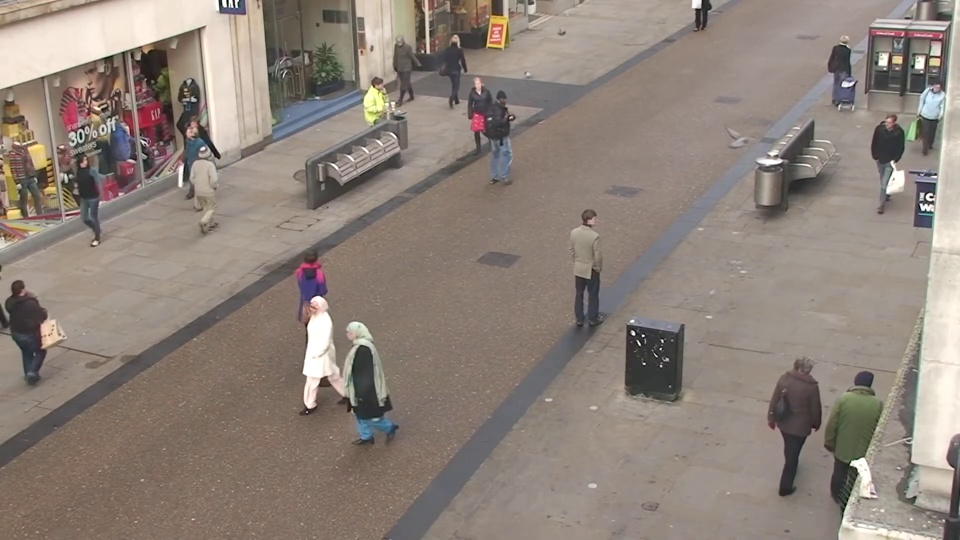pedestrian: (826, 355, 887, 517), (775, 341, 833, 497), (7, 266, 71, 400), (321, 316, 374, 462), (284, 290, 336, 430), (297, 238, 344, 366), (55, 154, 104, 258), (569, 204, 607, 324), (864, 113, 906, 210), (907, 81, 951, 172), (194, 137, 234, 236), (168, 127, 208, 224), (174, 114, 212, 206), (491, 88, 521, 177), (365, 74, 395, 158), (460, 74, 490, 158), (827, 32, 859, 109), (384, 35, 411, 107), (448, 28, 473, 99)
